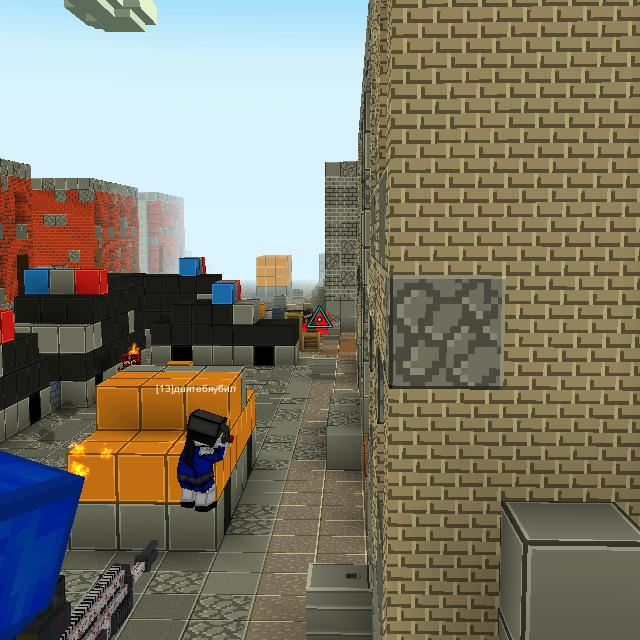enemy: (116, 351, 142, 373), (302, 307, 318, 332)
